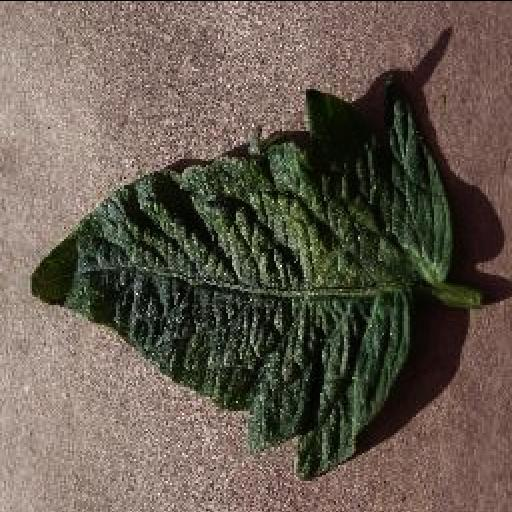disease_tomato: (28, 72, 454, 480)
